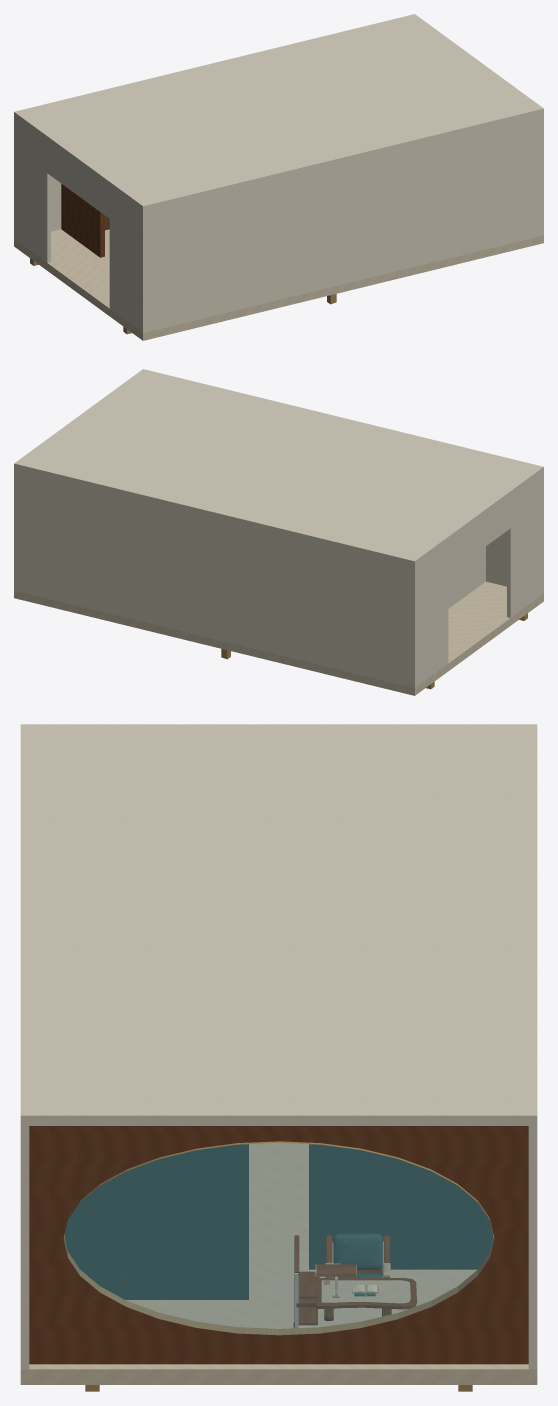
Rendered from StarAtlasSpecialty_539_Production.glb.
The picture shows the model from 3 angles, top to bottom: view 1: azimuth 30°, elevation 25°; view 2: azimuth 150°, elevation 25°; view 3: azimuth 270°, elevation 25°; orthographic projection. The views are drawn at different scales.
Parts seen in each view (by area): view 1: SA539_Ceiling, SA539_SouthSide, SA539_RoomFloor, SA539_EntryShoulderNorth, SA539_EntryShoulderSouth, SA539_EntryHeader, SA539_EntryPrivacyDogleg, SA539_NorthSide; view 2: SA539_Ceiling, SA539_NorthSide, SA539_RoomFloor, SA539_EntryShoulderSouth, SA539_EntryShoulderNorth, SA539_EntryHeader, SA539_WashEntrySide, SA539_SouthSide; view 3: SA539_Ceiling, SA539_OvalAtriumGlass, SA539_OvalWindowReveal, SA539_RoomFloor, SA539_Cocoon02_RearLiner, SA539_Cocoon01_RearLiner, SA539_OvalDepthReturn, SA539_NorthSide, SA539_SouthSide, SA539_DayReadingChair__DAY_CHAIR_single_reclined_back_cushio, SA539_LibraryStudyEdge__SINGLE_inset_stone_writing_surface, SA539_LibraryStudyEdge__SINGLE_carved_walnut_writing_edge (+1 smaller).
Boxes of the visible parts, left/top/right/bottom form: SA539_Ceiling: left=14, top=14, right=543, bottom=211; SA539_SouthSide: left=141, top=114, right=543, bottom=332; SA539_RoomFloor: left=14, top=229, right=543, bottom=340; SA539_EntryShoulderNorth: left=16, top=119, right=50, bottom=262; SA539_EntryShoulderSouth: left=109, top=187, right=140, bottom=331; SA539_EntryHeader: left=46, top=141, right=110, bottom=218; SA539_EntryPrivacyDogleg: left=61, top=184, right=104, bottom=257; SA539_NorthSide: left=14, top=117, right=61, bottom=239; SA539_Ceiling: left=14, top=369, right=543, bottom=566; SA539_NorthSide: left=14, top=469, right=416, bottom=687; SA539_RoomFloor: left=14, top=581, right=543, bottom=695; SA539_EntryShoulderSouth: left=507, top=474, right=541, bottom=617; SA539_EntryShoulderNorth: left=417, top=542, right=448, bottom=686; SA539_EntryHeader: left=447, top=496, right=511, bottom=573; SA539_WashEntrySide: left=448, top=546, right=485, bottom=608; SA539_SouthSide: left=486, top=472, right=543, bottom=594; SA539_Ceiling: left=20, top=724, right=537, bottom=1125; SA539_OvalAtriumGlass: left=64, top=1143, right=493, bottom=1334; SA539_OvalWindowReveal: left=29, top=1126, right=528, bottom=1364; SA539_RoomFloor: left=20, top=1143, right=537, bottom=1384; SA539_Cocoon02_RearLiner: left=69, top=1144, right=244, bottom=1299; SA539_Cocoon01_RearLiner: left=313, top=1144, right=488, bottom=1269; SA539_OvalDepthReturn: left=63, top=1141, right=494, bottom=1335; SA539_NorthSide: left=528, top=1126, right=537, bottom=1369; SA539_SouthSide: left=20, top=1126, right=29, bottom=1369; SA539_DayReadingChair__DAY_CHAIR_single_reclined_back_cushio: left=332, top=1233, right=383, bottom=1269; SA539_LibraryStudyEdge__SINGLE_inset_stone_writing_surface: left=321, top=1280, right=410, bottom=1303; SA539_LibraryStudyEdge__SINGLE_carved_walnut_writing_edge: left=316, top=1278, right=416, bottom=1309.
Bounding box in the file's own units: 12.9 × 4.91 × 7.2.
67 materials, 43 textured.
